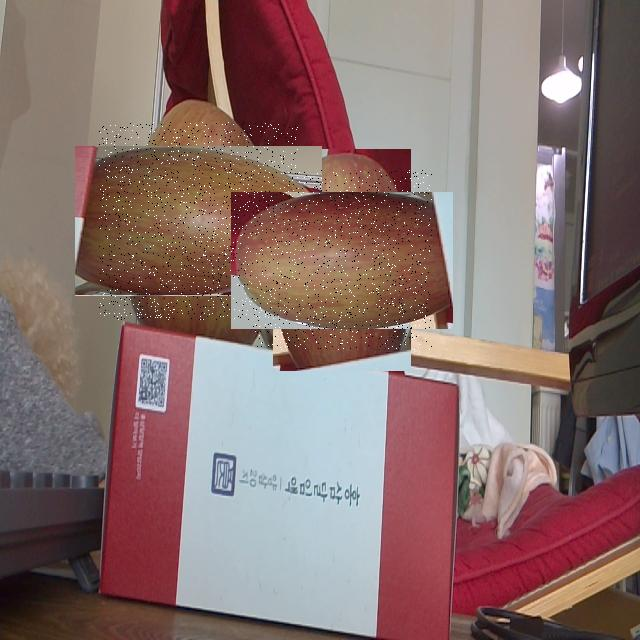apple: (99, 122, 298, 320), (252, 170, 432, 350)
